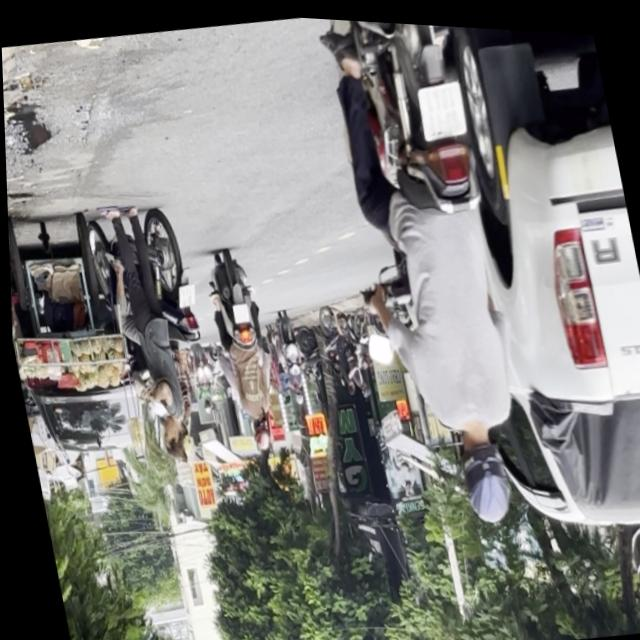helmet: (448, 423, 515, 525)
licenseplate: (310, 14, 576, 539)
nohelmet: (415, 73, 468, 137), (174, 281, 195, 306)
